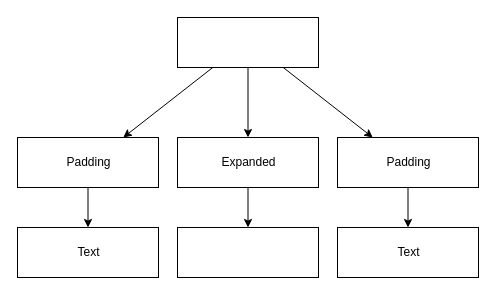
The diagram is 496 pixels wide and 295 high, and some of its shapes have lost their labels. The box of each missing label's shape, as (x1, y1, x2, y2) in pixels:
Row: (176, 16, 318, 68)
Slider: (176, 226, 318, 278)
